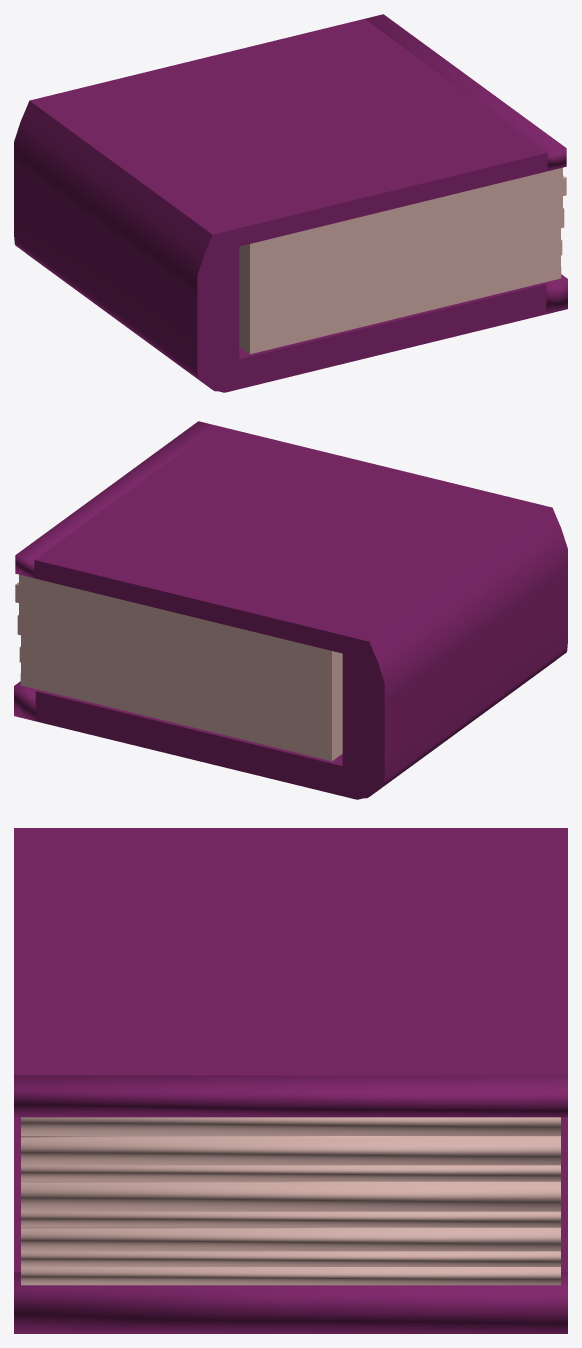
The model's file is BookConnected.fbx.
3 views of the same model, one above another, from view 1: azimuth 30°, elevation 25°; view 2: azimuth 150°, elevation 25°; view 3: azimuth 270°, elevation 25° (orthographic). The views are drawn at different scales.
Parts seen in each view (by area): view 1: Cube; view 2: Cube; view 3: Cube.
Part boxes in pixels (<box>): Cube: <box>14,14,567,392</box>; Cube: <box>14,421,567,799</box>; Cube: <box>14,828,567,1333</box>.
Size of the model in its own units: 579 by 240 by 494.
